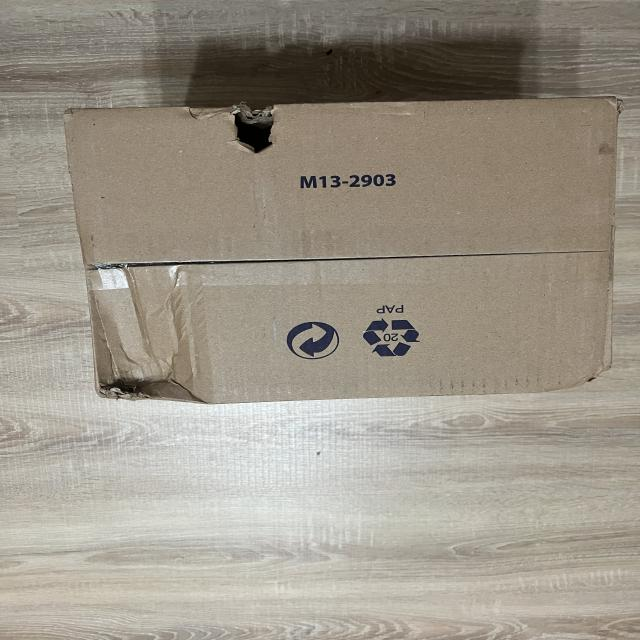damaged: (55, 90, 634, 408), (83, 343, 234, 416), (171, 92, 319, 163)
